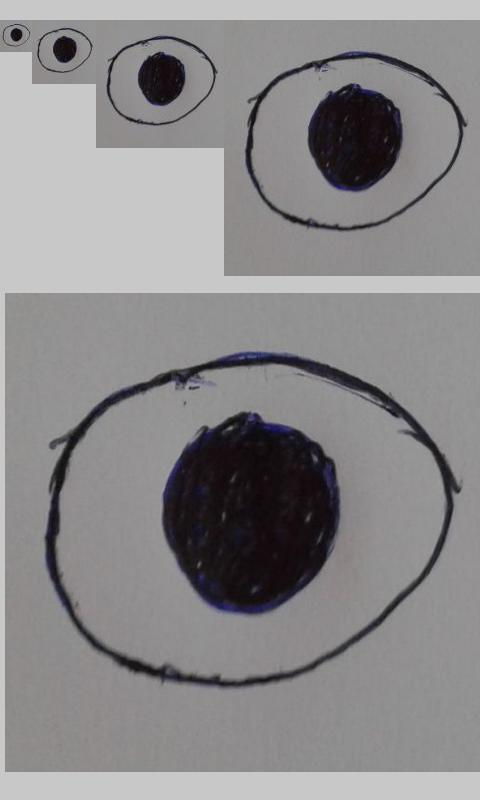radio_button: (41, 351, 459, 689), (243, 50, 468, 234), (106, 35, 218, 126), (36, 27, 93, 74), (2, 23, 31, 47)
